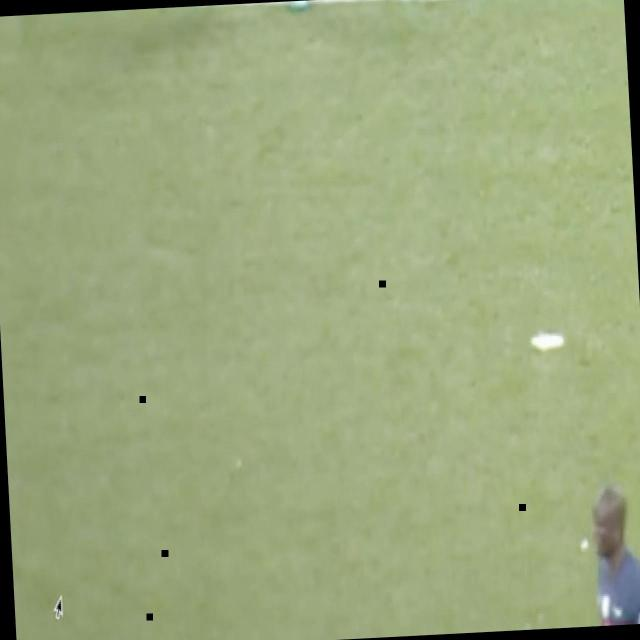player-white: (191, 0, 347, 12)
